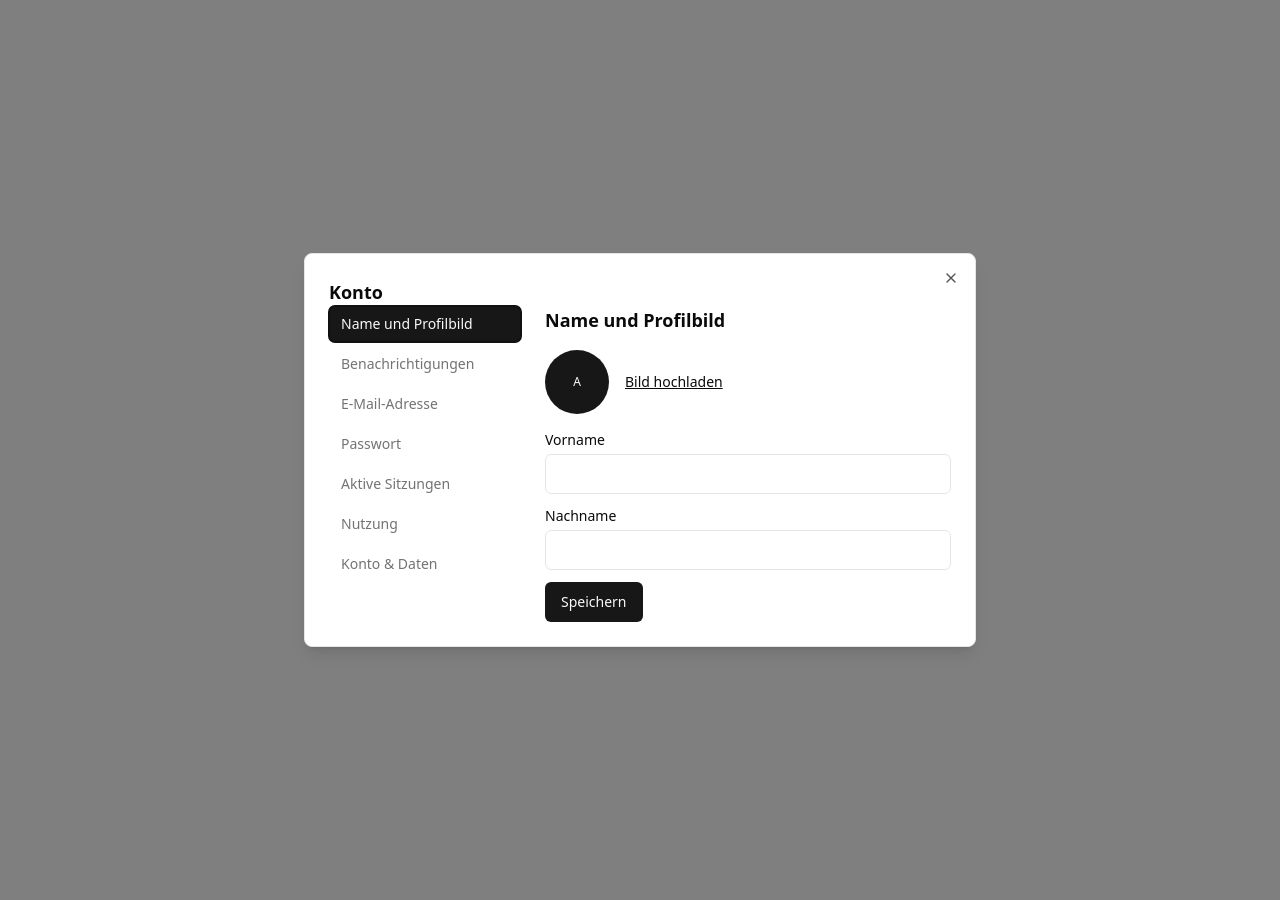
Scenario: ProfileOverlay › shows the combined Konto & Daten nav item leading to both Export and Delete sections
Check: the heading "Name und Profilbild" is shown, box [545,308,725,332]
Step 1. Click the button "Konto & Daten" → (425, 564), box [329,546,521,582]
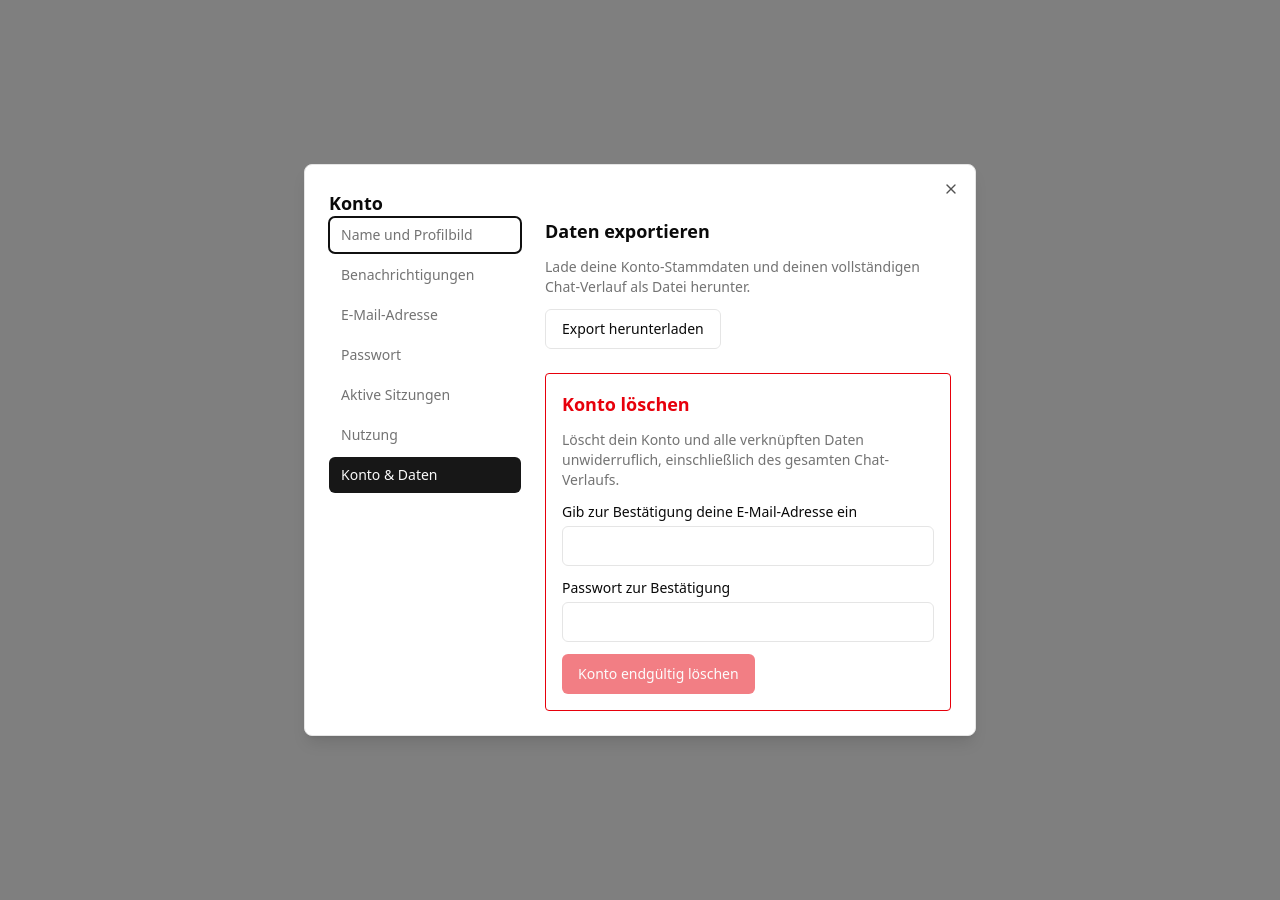
Check: the heading "Daten exportieren" is shown, box [545,219,710,243]
Check: the heading "Konto löschen" is shown, box [562,392,690,416]
